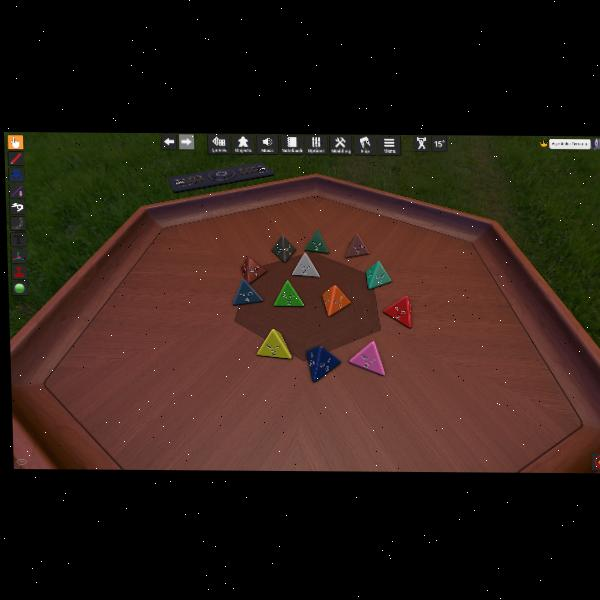d4: (350, 340, 386, 375), (306, 345, 340, 382), (256, 329, 292, 359), (383, 295, 412, 327), (322, 284, 350, 317), (273, 279, 305, 307), (232, 278, 263, 305), (364, 260, 390, 289), (290, 251, 319, 277), (270, 234, 296, 262), (240, 254, 265, 283), (344, 233, 369, 258), (304, 229, 328, 254)
